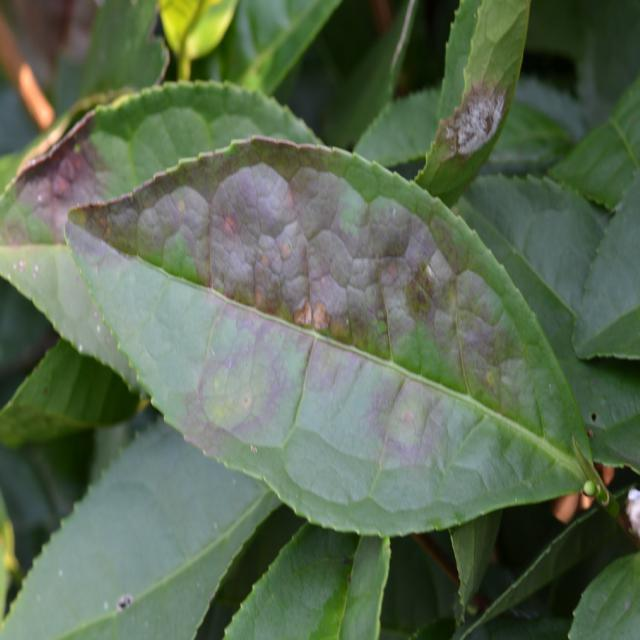Tea exobasidium blight: (100, 170, 475, 462), (23, 113, 97, 205), (450, 79, 498, 149)
